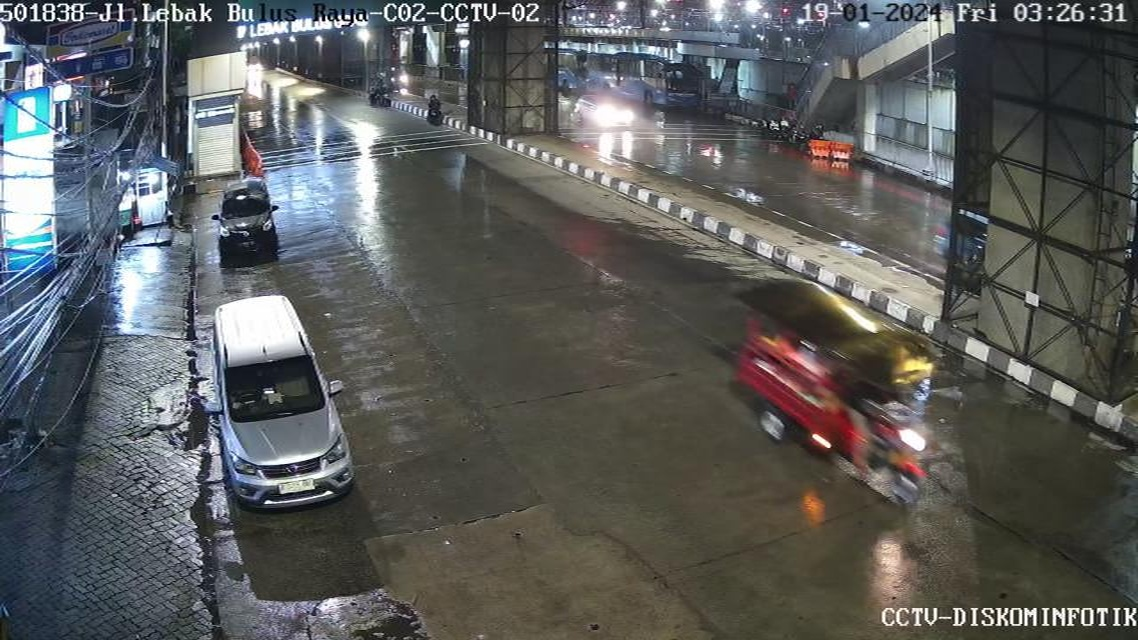Gerobak: (132, 166, 172, 229)
